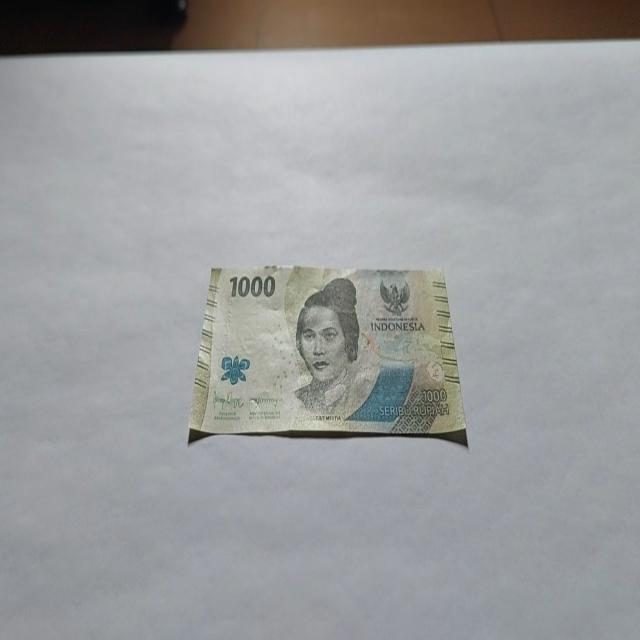seribu rupiah kertas: (187, 263, 468, 447)
